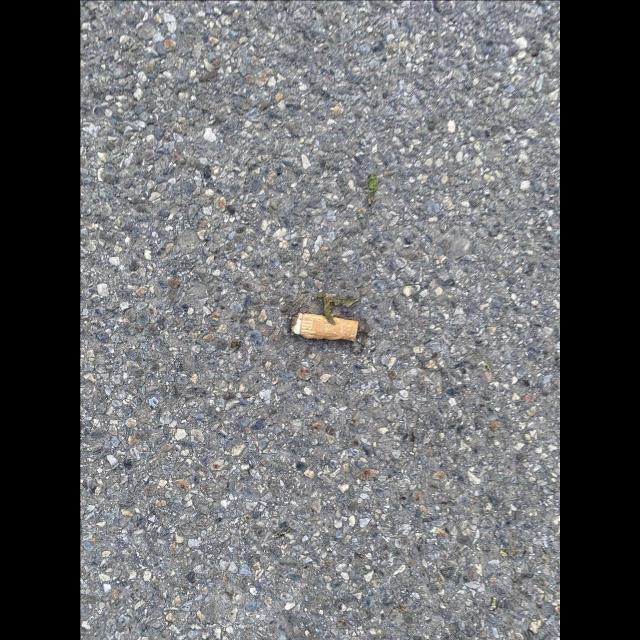cigarette: (288, 313, 358, 342)
